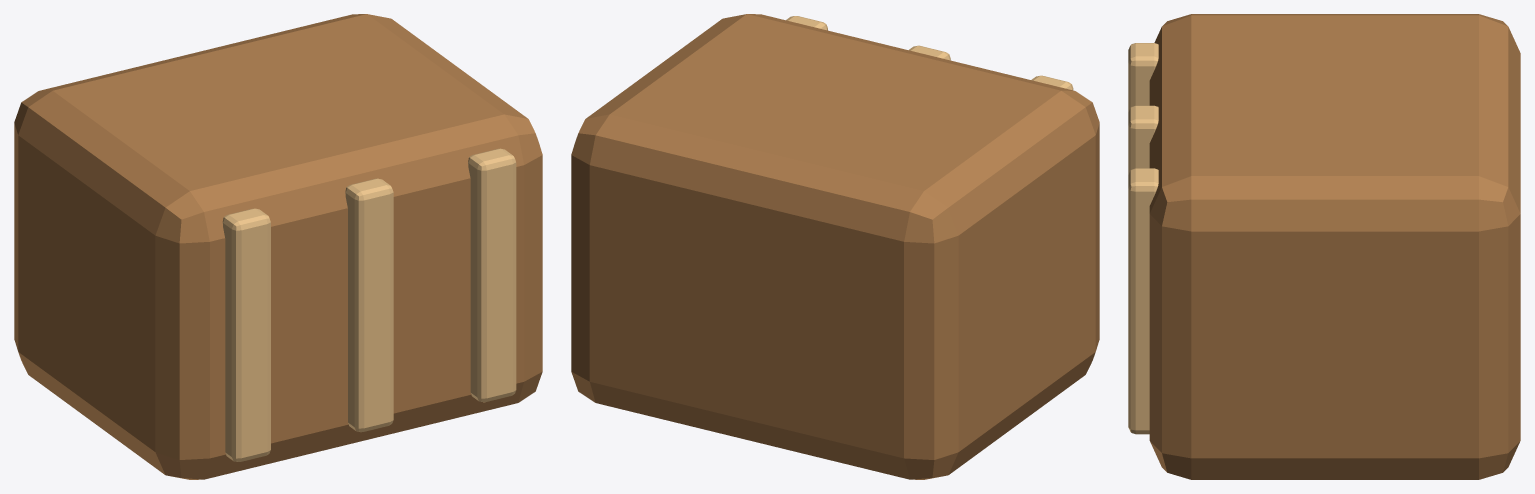
File: pet-toy-basket-cozy.glb
3 renders of one model, left to right at view 1: azimuth 30°, elevation 25°; view 2: azimuth 150°, elevation 25°; view 3: azimuth 270°, elevation 25°, orthographic. The views are drawn at different scales.
Parts seen in each view (by area): view 1: ToyBasket, BasketWeave.002, BasketWeave.001, BasketWeave; view 2: ToyBasket; view 3: ToyBasket, BasketWeave.002, BasketWeave.001, BasketWeave.
Part boxes in pixels (x1=…): ToyBasket: x1=14, y1=14, x2=542, y2=479; BasketWeave.002: x1=468, y1=148, x2=516, y2=402; BasketWeave.001: x1=345, y1=178, x2=393, y2=431; BasketWeave: x1=222, y1=208, x2=270, y2=461; ToyBasket: x1=571, y1=14, x2=1099, y2=479; ToyBasket: x1=1149, y1=14, x2=1520, y2=479; BasketWeave.002: x1=1128, y1=168, x2=1158, y2=434; BasketWeave.001: x1=1128, y1=105, x2=1158, y2=174; BasketWeave: x1=1128, y1=43, x2=1158, y2=111.
Bounding box in the file's own units: 0.5 × 0.36 × 0.423.
